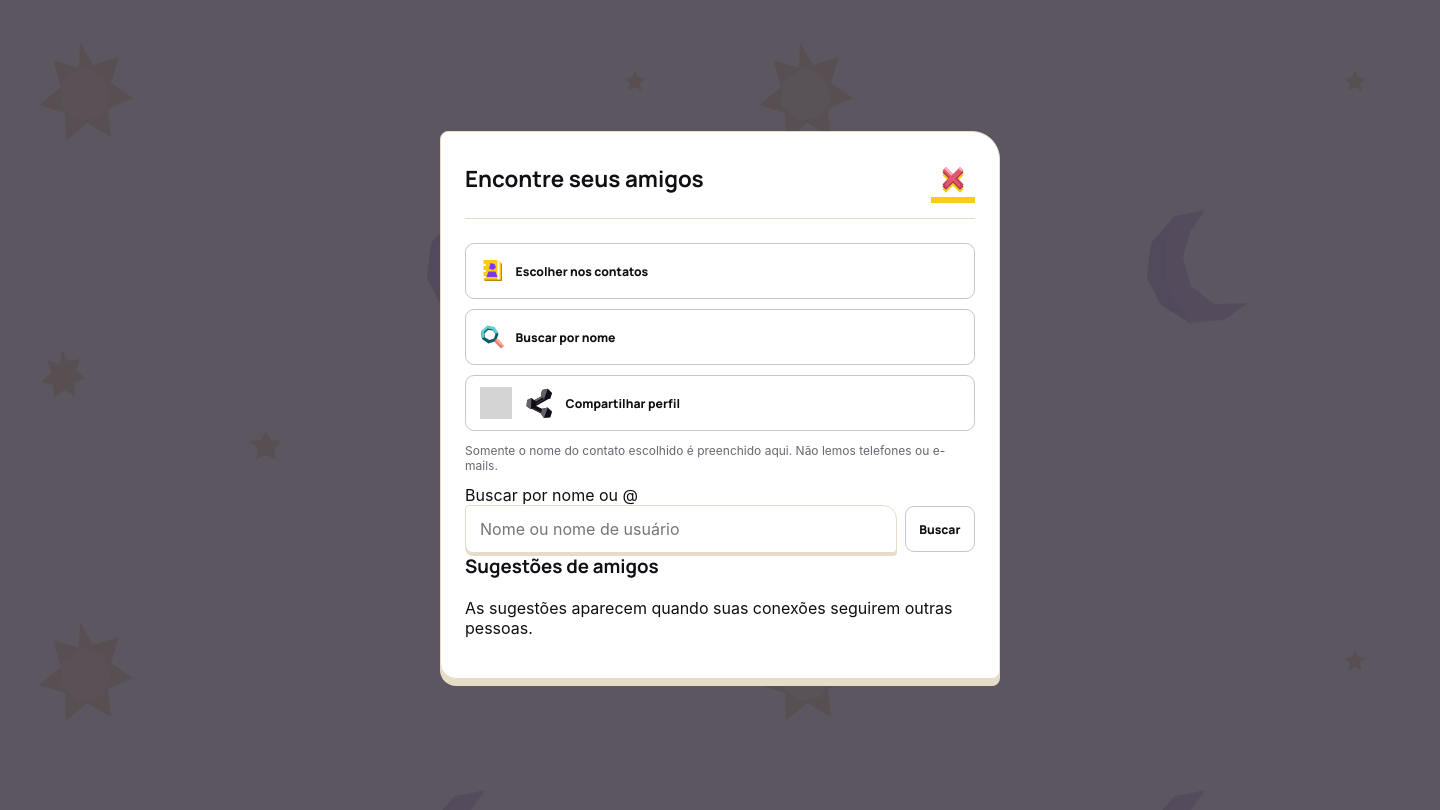
Test: contatos preenchem apenas o nome escolhido, sem enviar a agenda automaticamente
Click the button "Escolher nos contatos" at [582, 271], box [465, 243, 975, 299]
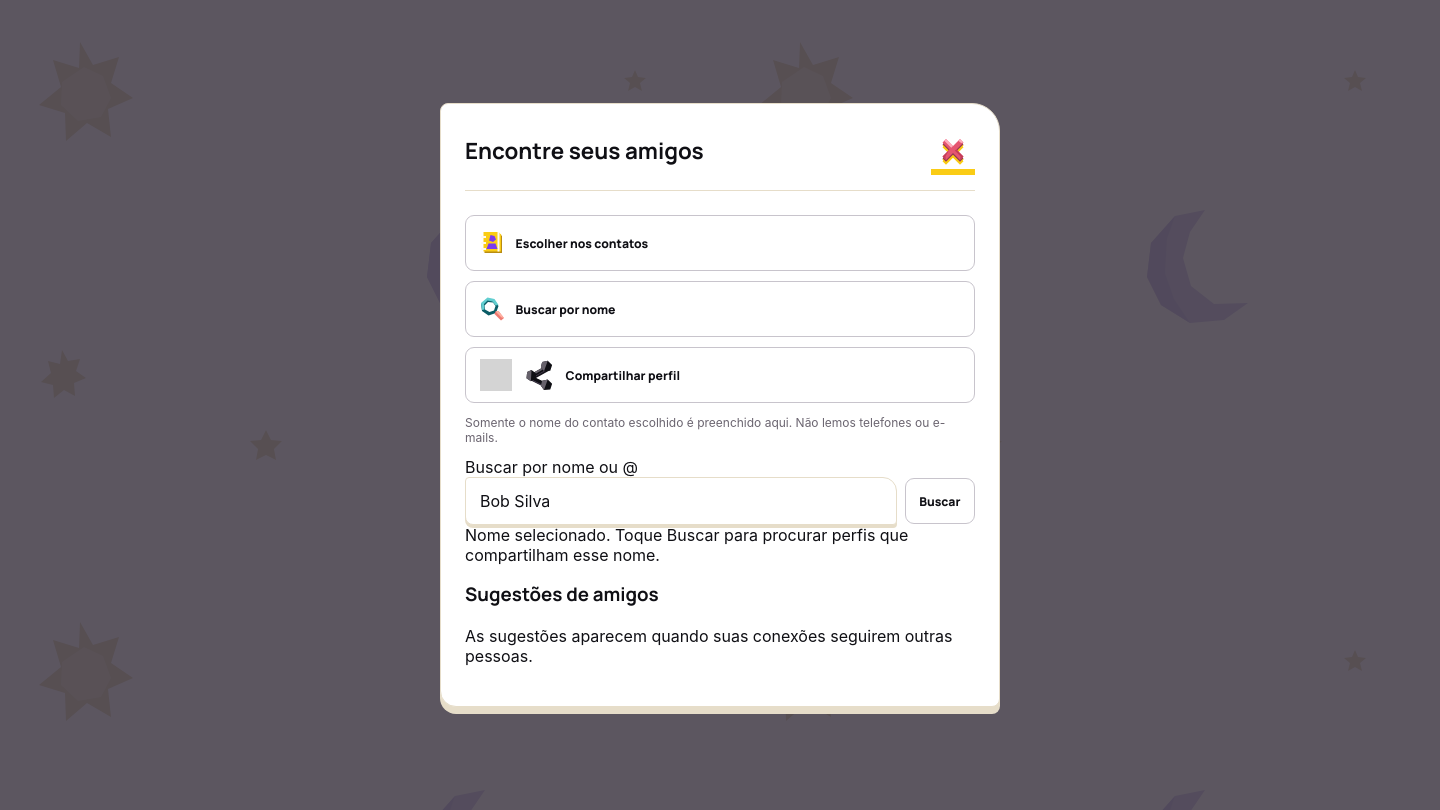
Expected: the text "Nome selecionado" is shown, [465, 525, 908, 565]
Expected: the field labelled "Buscar por nome ou @" holds "Bob Silva", [465, 477, 897, 525]
